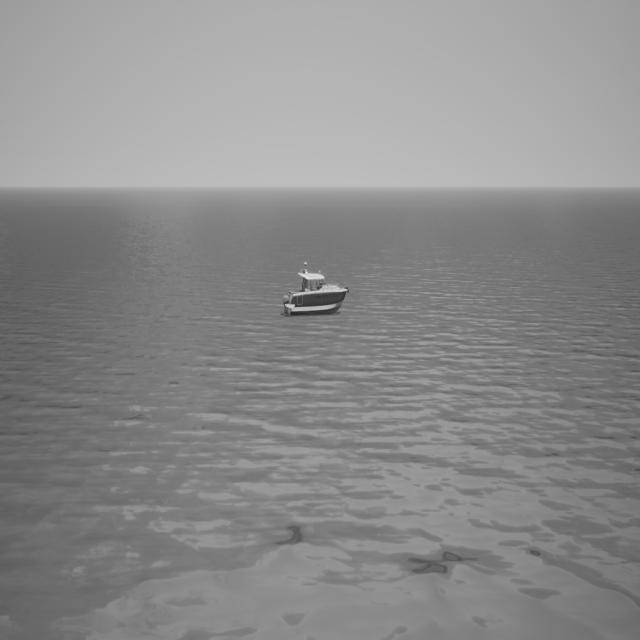ship: (282, 260, 350, 314)
